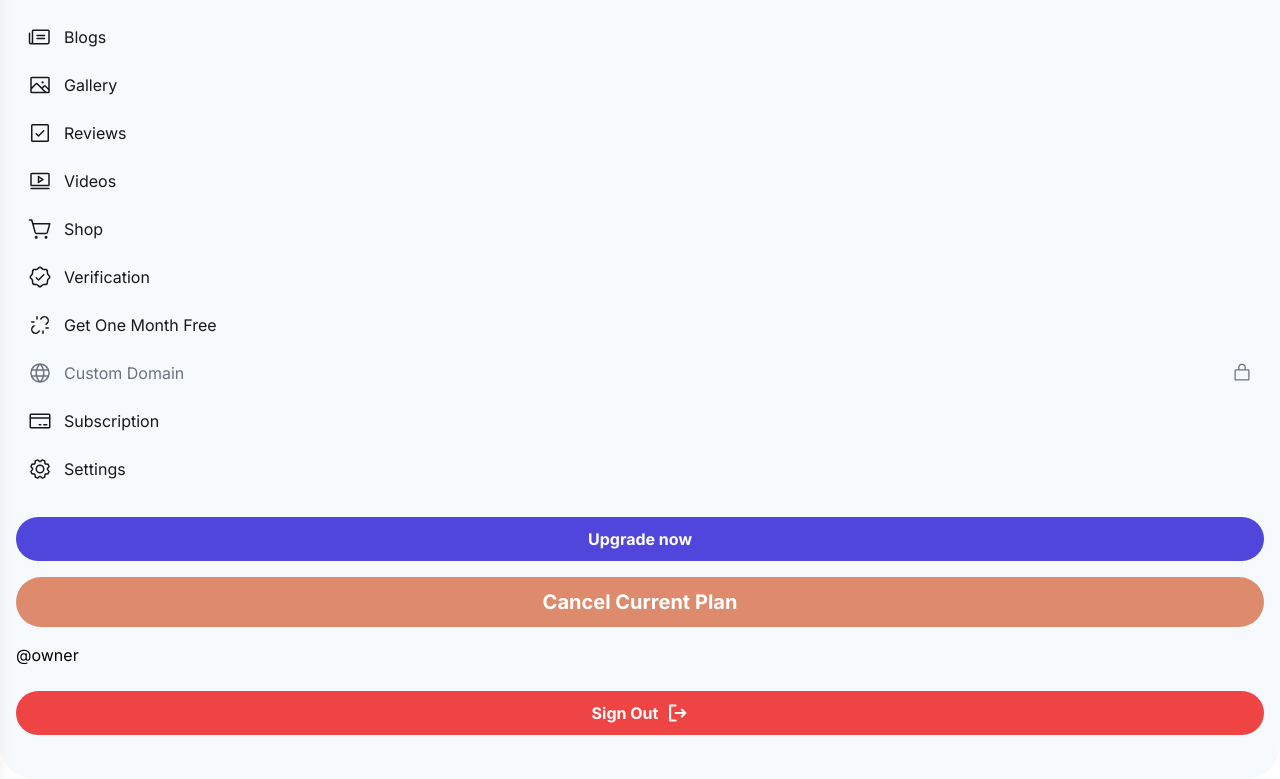
Scenario: Sidebar subscription downgrade › opens the downgrade confirmation from the paid-plan control
This screenshot has width=1280, height=779.
(page scrolled)
Expected: the link "@owner" is shown, 16,643 -> 79,667
Click the button "Cancel Current Plan" at point(640, 602), box 16,577 -> 1264,627
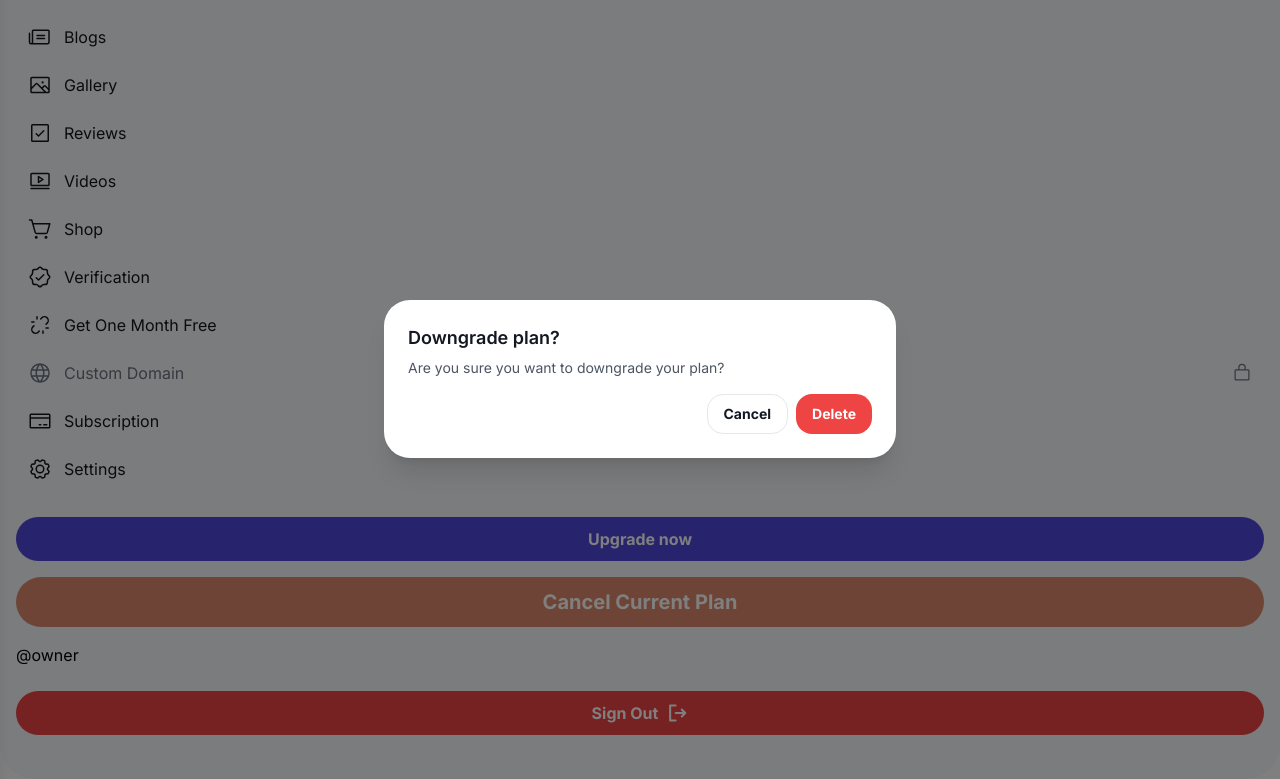
Result: the dialog "Downgrade plan?" is shown at 384,300 -> 896,458
